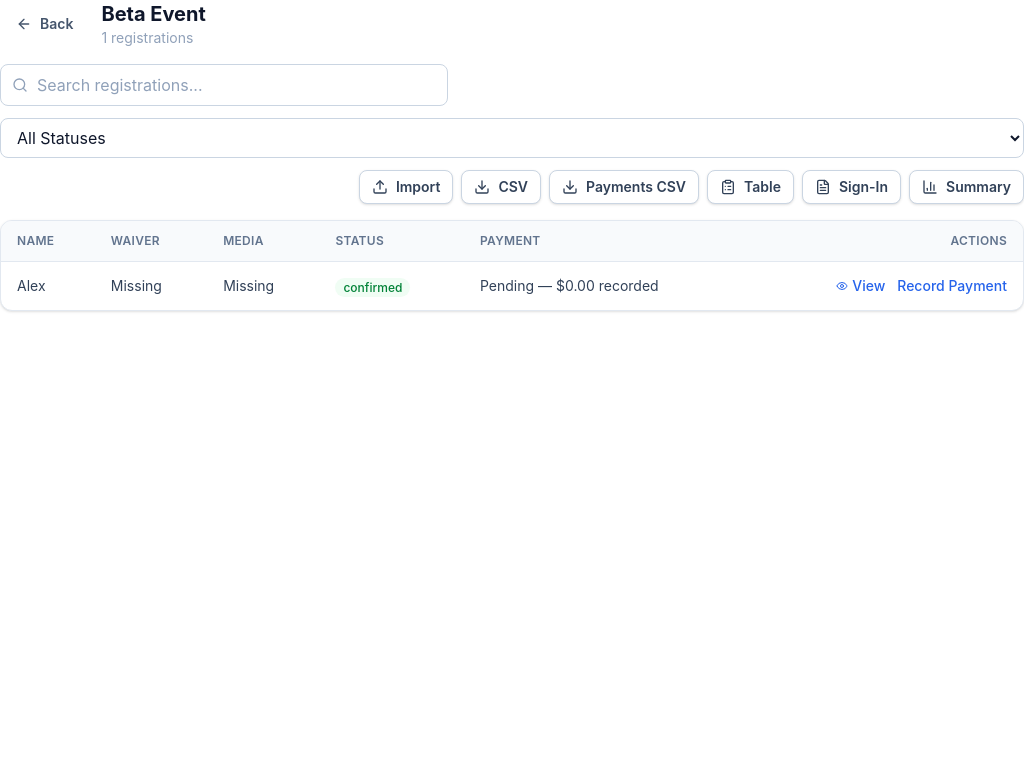
Test case: RegistrationViewer › shows a Transaction ID duplicate error without clearing entered values
The width and height of the screenshot is (1024, 768).
Step 1. Click the button "Record Payment" → (952, 286), box [897,276,1007,296]
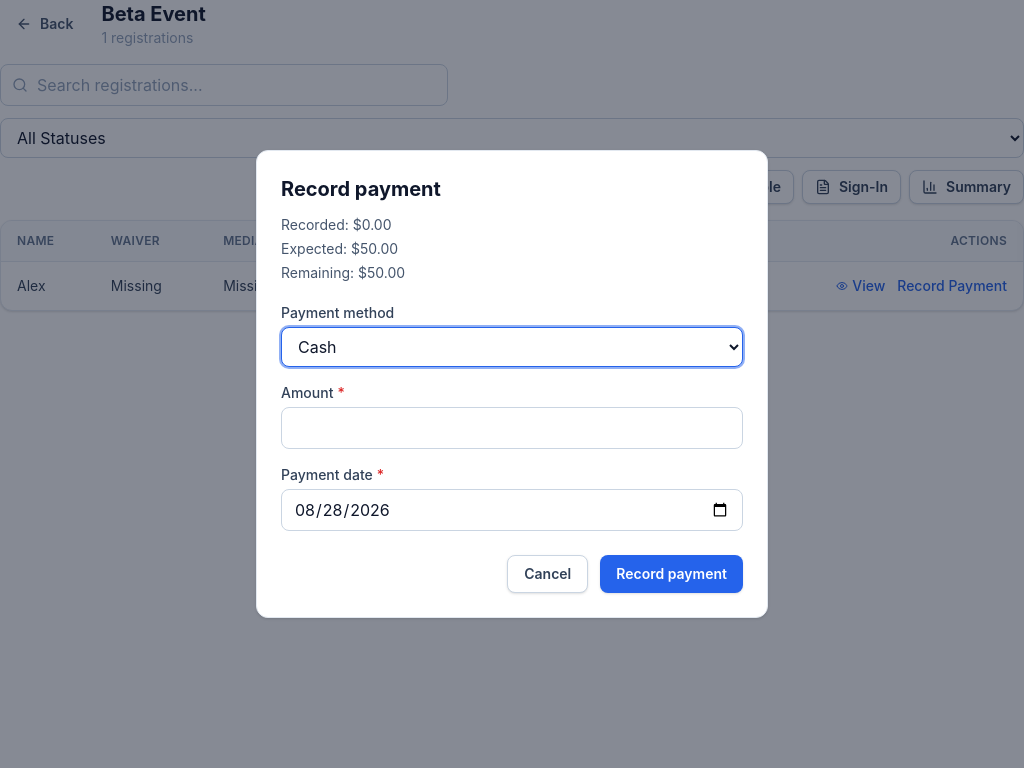
Step 2. Select "Tithe.ly" in the dropdown labelled "Payment method" → (512, 347), box [281,327,743,367]
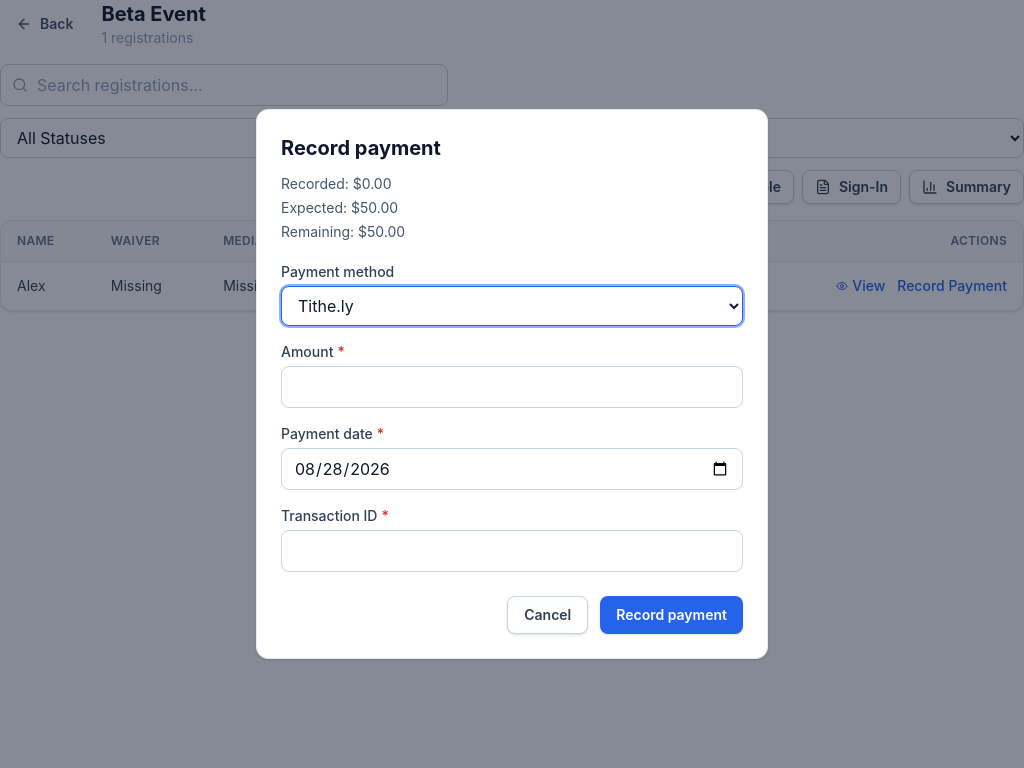
Step 3. Type "25" into the number field labelled "Amount*" → (512, 387), box [281,366,743,408]
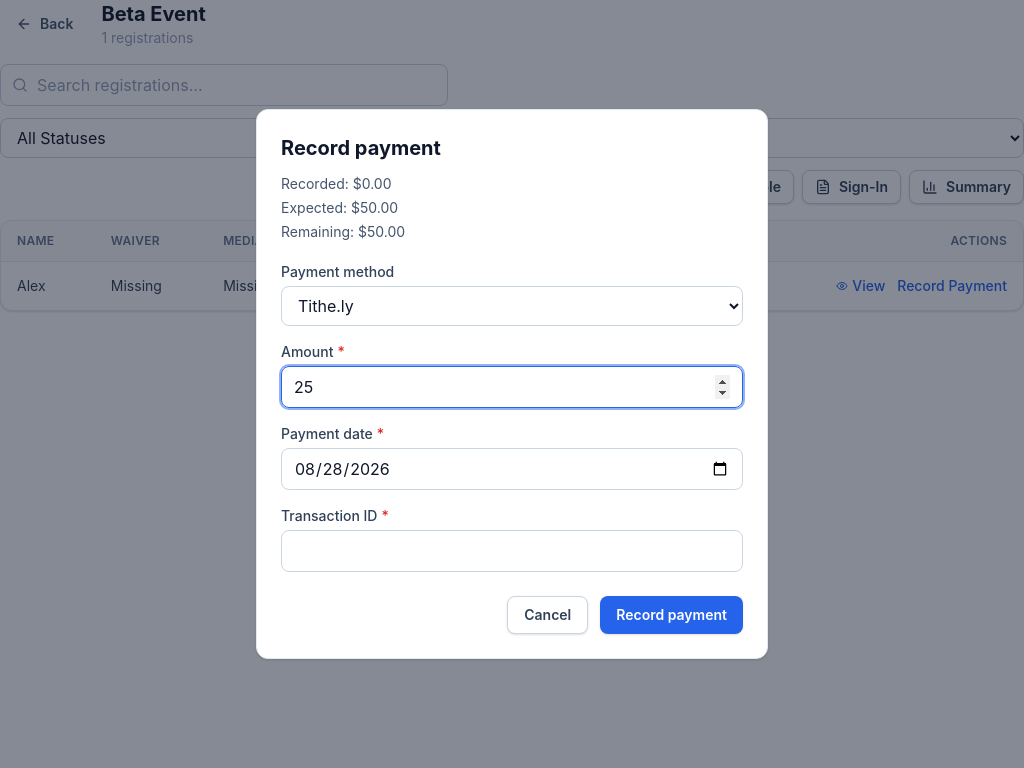
Step 4. Type "TX-42" into the field labelled "Transaction ID*" → (512, 551), box [281,530,743,572]
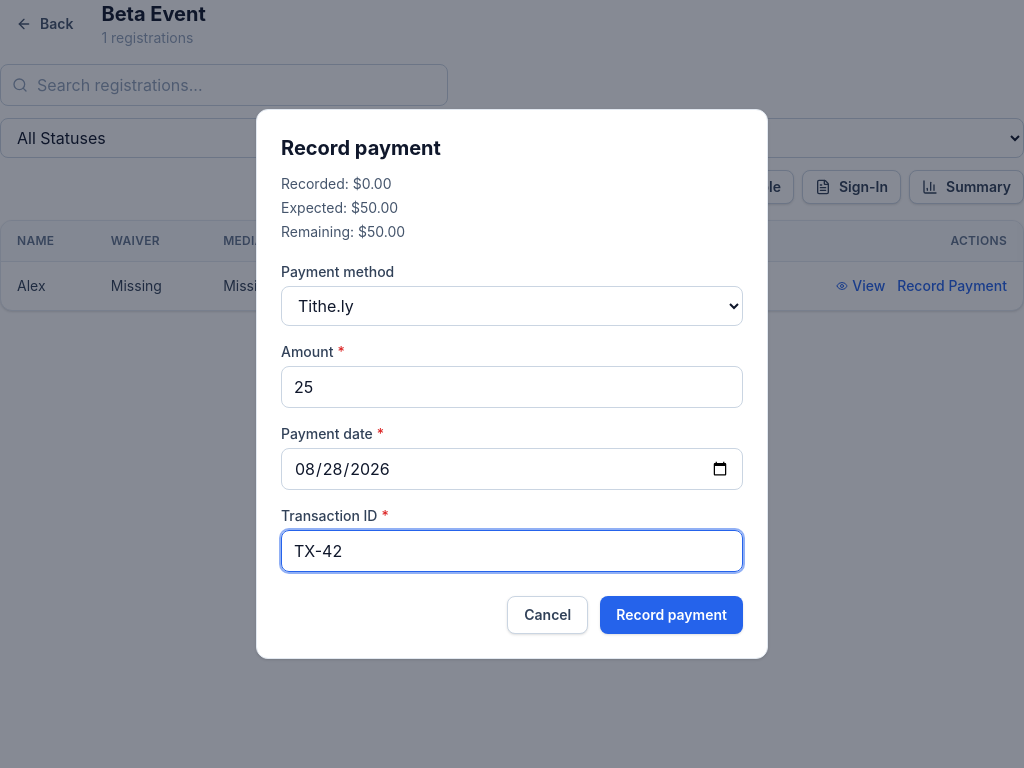
Step 5. Click the button "Record payment" → (672, 615), box [600,596,743,634]
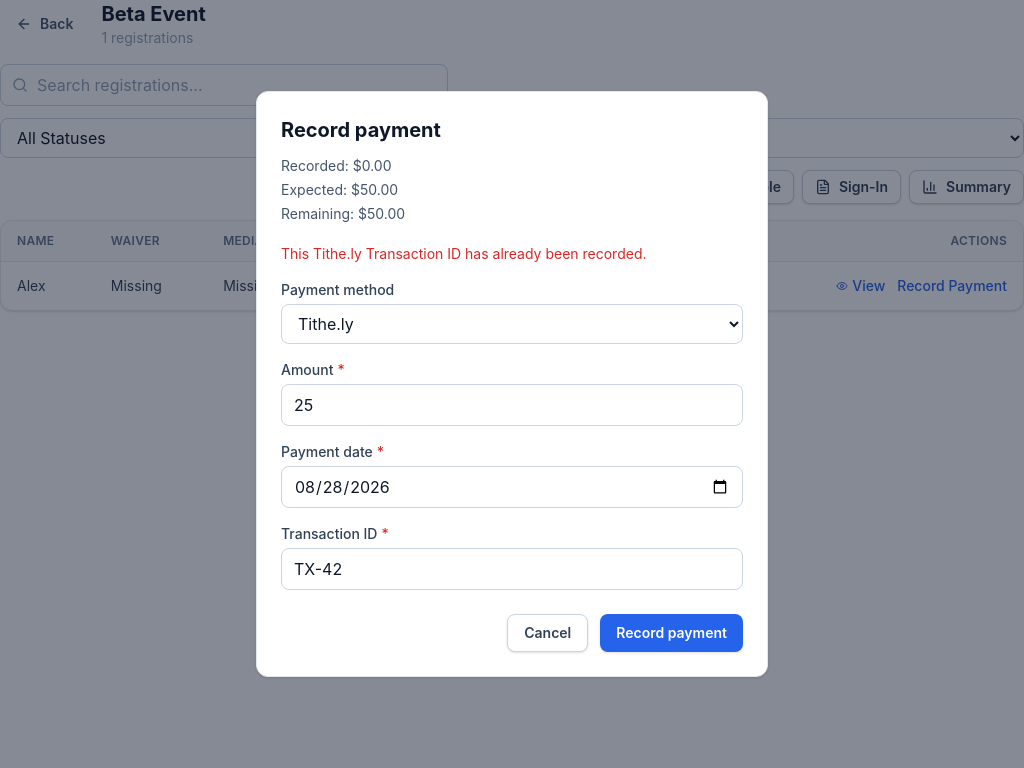
Expected: the message reads "This Tithe.ly Transaction ID has already been recorded.", [281,245,646,262]
